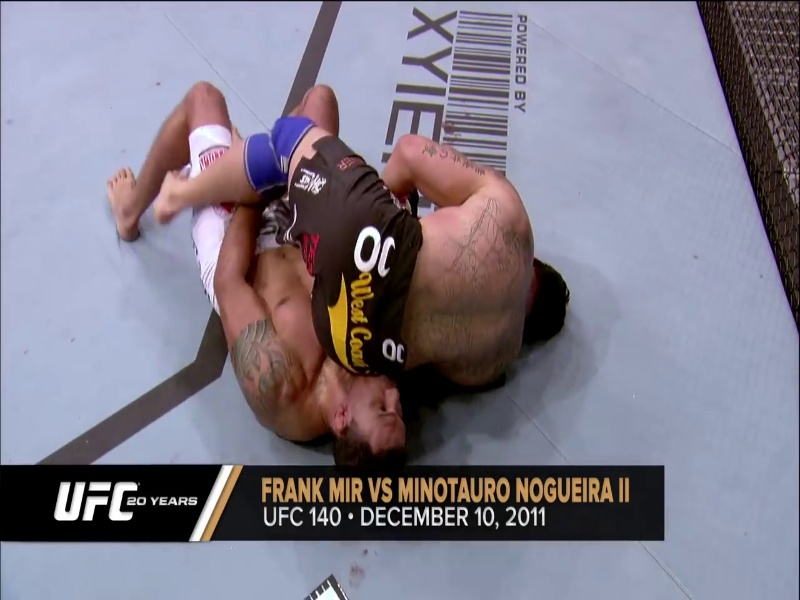fighter: (92, 75, 420, 466), (160, 133, 585, 363)
